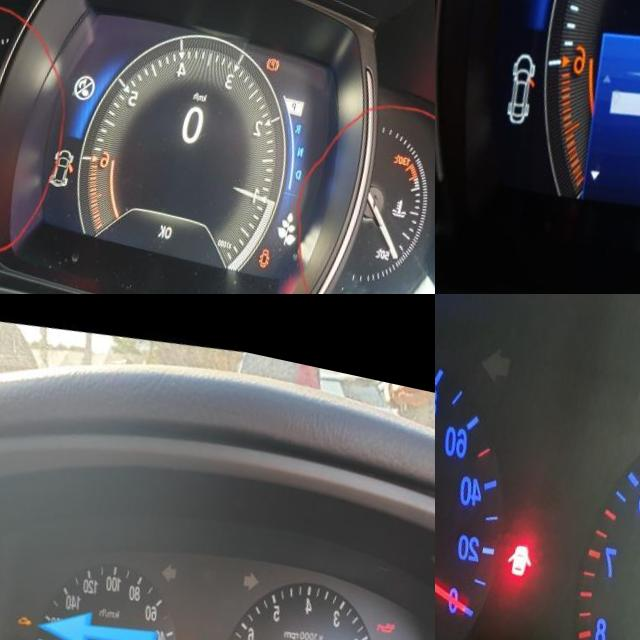Doors: (520, 530, 549, 566), (280, 230, 295, 252)
